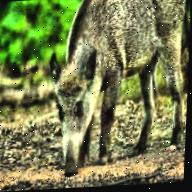boar: (39, 0, 192, 174)
